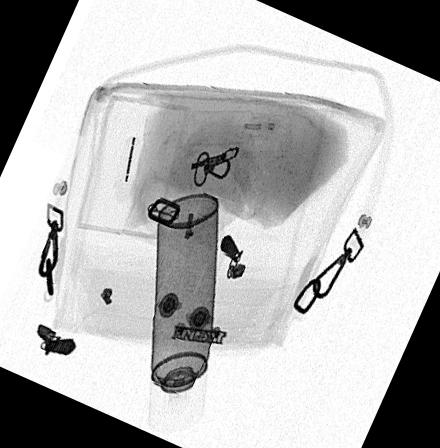Sprayer: (149, 193, 219, 434)
